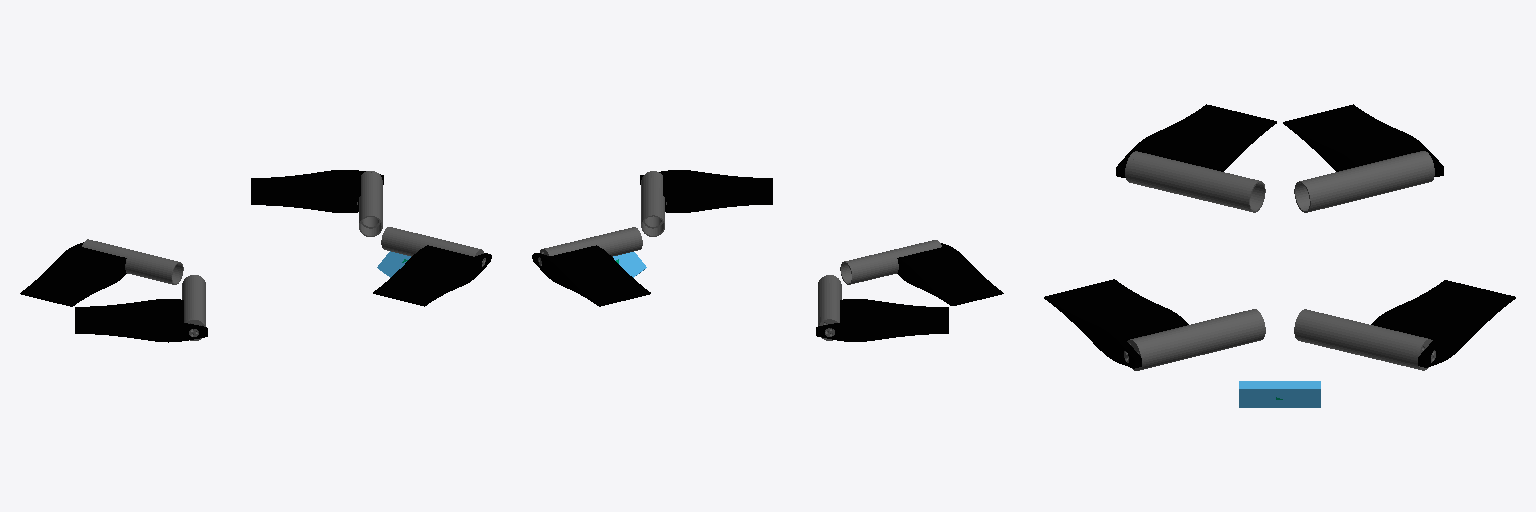
The robot description file, URDF, robot "U-CAT":
<?xml version="1.0"?>
<robot name="U-CAT">
	<link name="base_link">
		<visual>
			<geometry>
				<mesh filename="package://uwsim_arrows/data/meshes/ArrowsBody.dae"/>
        	</geometry>
		</visual>
		<collision>
			<geometry>
				<cylinder radius="0.35" length="0.30" />
			</geometry>
		</collision>
	</link>
	
	<!-- motor 1 -->
	<link name="frontrightflipper">
		<visual>
			<origin rpy="0 0 0" xyz="-0.092 0.06 0" />
			<geometry>
				<mesh filename="package://uwsim_arrows/data/meshes/ArrowsFin.dae"/>
        	</geometry>
		</visual>
	</link>
	
	<!-- motor 2 -->
	<link name="backrightflipper">
		<visual>
			<origin rpy="0 0 0" xyz="-0.092 0.06 0" />
			<geometry>
				<mesh filename="package://uwsim_arrows/data/meshes/ArrowsFin.dae"/>
        	</geometry>
		</visual>
	</link>
	
	<!-- motor 3 -->
	<link name="backleftflipper">
		<visual>
			<origin rpy="0 0 0" xyz="-0.092 0.06 0" />
			<geometry>
				<mesh filename="package://uwsim_arrows/data/meshes/ArrowsFin.dae"/>
        	</geometry>
		</visual>
	</link>
	
	<!-- motor 4 -->
	<link name="frontleftflipper">
		<visual>
			<origin rpy="0 0 0" xyz="-0.092 0.06 0" />
			<geometry>
				<mesh filename="package://uwsim_arrows/data/meshes/ArrowsFin.dae"/>
        	</geometry>
		</visual>
	</link>
	
	<!-- sonars -->
	<link name="sonar_b">
		<visual>
			<geometry>
				<mesh filename="package://uwsim_arrows/data/meshes/Sonar.dae"/>
        	</geometry>
		</visual>
	</link>
	<link name="sonar_ff">
		<visual>
			<geometry>
				<mesh filename="package://uwsim_arrows/data/meshes/Sonar.dae"/>
        	</geometry>
		</visual>
	</link>
	<link name="sonar_fl">
		<visual>
			<geometry>
				<mesh filename="package://uwsim_arrows/data/meshes/Sonar.dae"/>
        	</geometry>
		</visual>
	</link>
	<link name="sonar_fr">
		<visual>
			<geometry>
				<mesh filename="package://uwsim_arrows/data/meshes/Sonar.dae"/>
        	</geometry>
		</visual>
	</link>
	<link name="sonar_fu">
		<visual>
			<geometry>
				<mesh filename="package://uwsim_arrows/data/meshes/Sonar.dae"/>
        	</geometry>
		</visual>
	</link>
	<link name="sonar_fd">
		<visual>
			<geometry>
				<mesh filename="package://uwsim_arrows/data/meshes/Sonar.dae"/>
        	</geometry>
		</visual>
	</link>
	<link name="sonar_l">
		<visual>
			<geometry>
				<mesh filename="package://uwsim_arrows/data/meshes/Sonar.dae"/>
        	</geometry>
		</visual>
	</link>
	<link name="sonar_r">
		<visual>
			<geometry>
				<mesh filename="package://uwsim_arrows/data/meshes/Sonar.dae"/>
        	</geometry>
		</visual>
	</link>

	<!-- narrow sonars -->
	
	<link name="sonar_ff_0_0">
		<visual>
			<geometry>
				<box size="0.0 0.0 0.0"/>
        	</geometry>
		</visual>
	</link>
	
	<link name="sonar_ff_0_6">
		<visual>
			<geometry>
				<box size="0.0 0.0 0.0"/>
        	</geometry>
		</visual>
	</link>

	<link name="sonar_ff_6_6">
		<visual>
			<geometry>
				<box size="0.0 0.0 0.0"/>
        	</geometry>
		</visual>
	</link>
	
	<link name="sonar_ff_6_0">
		<visual>
			<geometry>
				<box size="0.0 0.0 0.0"/>
        	</geometry>
		</visual>
	</link>
	
	<link name="sonar_ff_0_3">
		<visual>
			<geometry>
				<box size="0.0 0.0 0.0"/>
        	</geometry>
		</visual>
	</link>
	<link name="sonar_ff_2_3">
		<visual>
			<geometry>
				<box size="0.0 0.0 0.0"/>
        	</geometry>
		</visual>
	</link>
	<link name="sonar_ff_4_3">
		<visual>
			<geometry>
				<box size="0.0 0.0 0.0"/>
        	</geometry>
		</visual>
	</link>
	<link name="sonar_ff_6_3">
		<visual>
			<geometry>
				<box size="0.0 0.0 0.0"/>
        	</geometry>
		</visual>
	</link>
	
	<link name="sonar_ff_3_0">
		<visual>
			<geometry>
				<box size="0.0 0.0 0.0"/>
        	</geometry>
		</visual>
	</link>
	<link name="sonar_ff_3_2">
		<visual>
			<geometry>
				<box size="0.0 0.0 0.0"/>
        	</geometry>
		</visual>
	</link>
	<link name="sonar_ff_3_4">
		<visual>
			<geometry>
				<box size="0.0 0.0 0.0"/>
        	</geometry>
		</visual>
	</link>
	<link name="sonar_ff_3_6">
		<visual>
			<geometry>
				<box size="0.0 0.0 0.0"/>
        	</geometry>
		</visual>
	</link>
		
	<!-- camera -->
	
	<link name="camera_link">
		<visual>
			<geometry>
				<box size="0.01 0.10 0.07"/>
        	</geometry>
		</visual>
	</link>
	
	<link name="camera_link_optical">
		<visual>
			<geometry>
				<box size="0.01 0.01 0.01"/>
        	</geometry>
		</visual>
	</link>
	
	<!-- joints, START COPYING FROM HERE -->
	
	<joint name="baselink_to_frontrightflipper" type="continuous">
		<parent link="base_link" />
		<child link="frontrightflipper" />
		<origin rpy="0 3.14159 -2.61799388" xyz="0.226 -0.096 0" />
		<axis xyz="0 1 0" />
	</joint>

	<joint name="baselink_to_backrightflipper" type="continuous">
		<parent link="base_link" />
		<child link="backrightflipper" />
		<origin rpy="0 3.14159 2.61799388" xyz="-0.226 -0.096 0" />
		<axis xyz="0 1 0" />
	</joint>
	
	<joint name="baselink_to_backleftflipper" type="continuous">
		<parent link="base_link" />
		<child link="backleftflipper" />
		<origin rpy="0 0 0.523598776" xyz="-0.226 0.096 0" />
		<axis xyz="0 1 0" />
	</joint>
	
	<joint name="baselink_to_frontleftflipper" type="continuous">
		<parent link="base_link" />
		<child link="frontleftflipper" />
		<origin rpy="0 0 -0.523598776" xyz="0.226 0.096 0" />
		<axis xyz="0 1 0" />
	</joint>
	
	<joint name="baselink_to_camera_link" type="fixed">
		<parent link="base_link" />
		<child link="camera_link" />
		<origin rpy="0 0.8 0" xyz="0.24 0 -0.07" />
	</joint>

	<joint name="camera_rgb_optical_joint" type="fixed">
		<origin xyz="0 0 0" rpy="-1.57 0 -1.57" />
		<parent link="camera_link" />
		<child link="camera_link_optical" />
	</joint>
	
	<joint name="baselink_to_sonar_b" type="fixed">
		<parent link="base_link" />
		<child link="sonar_b" />
		<origin rpy="0 0 3.14159" xyz="-0.28 0 0" />
	</joint>
	
	<joint name="baselink_to_sonar_ff" type="fixed">
		<parent link="base_link" />
		<child link="sonar_ff" />
		<origin rpy="0 0 0" xyz="0.28 0 0" />
	</joint>
	
	<joint name="baselink_to_sonar_fl" type="fixed">
		<parent link="base_link" />
		<child link="sonar_fl" />
		<origin rpy="0 0 0.559" xyz="0.263 0.057 0" />
	</joint>
	
	<joint name="baselink_to_sonar_fr" type="fixed">
		<parent link="base_link" />
		<child link="sonar_fr" />
		<origin rpy="0 0 -0.559" xyz="0.263 -0.057 0" />
	</joint>
	
	<joint name="baselink_to_sonar_fu" type="fixed">
		<parent link="base_link" />
		<child link="sonar_fu" />
		<origin rpy="0 -1.57 0" xyz="0.20 0 0.10" />
	</joint>
	
	<joint name="baselink_to_sonar_fd" type="fixed">
		<parent link="base_link" />
		<child link="sonar_fd" />
		<origin rpy="0 1.57 0" xyz="-0.20 0 -0.10" />
	</joint>
	
	<joint name="baselink_to_sonar_l" type="fixed">
		<parent link="base_link" />
		<child link="sonar_l" />
		<origin rpy="0 0 1.57" xyz="0 0.165 0" />
	</joint>
	
	<joint name="baselink_to_sonar_r" type="fixed">
		<parent link="base_link" />
		<child link="sonar_r" />
		<origin rpy="0 0 -1.57" xyz="0 -0.165 0" />
	</joint>


<!-- horizontal array -->
	<joint name="baselink_to_sonar_ff_0_3" type="fixed">
		<parent link="base_link" />
		<child link="sonar_ff_0_3" />
		<origin rpy="0 0 0.785398163" xyz="0.28 0 0" />
	</joint>	
	<joint name="baselink_to_sonar_ff_2_3" type="fixed">
		<parent link="base_link" />
		<child link="sonar_ff_2_3" />
		<origin rpy="0 0 0.261799388" xyz="0.28 0 0" />
	</joint>
	<joint name="baselink_to_sonar_ff_4_3" type="fixed">
		<parent link="base_link" />
		<child link="sonar_ff_4_3" />
		<origin rpy="0 0 -0.261799388" xyz="0.28 0 0" />
	</joint>
	<joint name="baselink_to_sonar_ff_6_3" type="fixed">
		<parent link="base_link" />
		<child link="sonar_ff_6_3" />
		<origin rpy="0 0 -0.785398163" xyz="0.28 0 0" />
	</joint>
	
	<joint name="baselink_to_sonar_ff_3_2" type="fixed">
		<parent link="base_link" />
		<child link="sonar_ff_3_2" />
		<origin rpy="0 -0.261799388 0" xyz="0.28 0 0" />
	</joint>
	<joint name="baselink_to_sonar_ff_3_0" type="fixed">
		<parent link="base_link" />
		<child link="sonar_ff_3_0" />
		<origin rpy="0 -0.785398163 0" xyz="0.28 0 0" />
	</joint>
	
	<joint name="baselink_to_sonar_ff_3_4" type="fixed">
		<parent link="base_link" />
		<child link="sonar_ff_3_4" />
		<origin rpy="0 0.261799388 0" xyz="0.28 0 0" />
	</joint>
	<joint name="baselink_to_sonar_ff_3_6" type="fixed">
		<parent link="base_link" />
		<child link="sonar_ff_3_6" />
		<origin rpy="0 0.785398163 0" xyz="0.28 0 0" />
	</joint>
	
	<joint name="baselink_to_sonar_ff_0_6" type="fixed">
		<parent link="base_link" />
		<child link="sonar_ff_0_6" />
		<origin rpy="0 0.65 0.65" xyz="0.28 0 0" />
	</joint>
	<joint name="baselink_to_sonar_ff_0_0" type="fixed">
		<parent link="base_link" />
		<child link="sonar_ff_0_0" />
		<origin rpy="0 -0.65 0.65" xyz="0.28 0 0" />
	</joint>
	<joint name="baselink_to_sonar_ff_6_6" type="fixed">
		<parent link="base_link" />
		<child link="sonar_ff_6_6" />
		<origin rpy="0 0.65 -0.65" xyz="0.28 0 0" />
	</joint>
	<joint name="baselink_to_sonar_ff_6_0" type="fixed">
		<parent link="base_link" />
		<child link="sonar_ff_6_0" />
		<origin rpy="0 -0.65 -00.65" xyz="0.28 0 0" />
	</joint>
	
</robot>

--- What the picture shows (computed from the rendered views, not written in the file) ---
3 views of the same robot in one strip: view 1: azimuth 30°, elevation 25°; view 2: azimuth 150°, elevation 25°; view 3: azimuth 270°, elevation 25° (orthographic).
Model U-CAT with 27 links and 26 joints (4 continuous, 22 fixed), rooted at base_link, posed every joint at zero.
Links seen in each view (by area): view 1: backleftflipper, frontrightflipper, frontleftflipper, backrightflipper; view 2: backrightflipper, frontleftflipper, frontrightflipper, backleftflipper; view 3: frontrightflipper, frontleftflipper, backrightflipper, backleftflipper, camera_link.
Link boxes in pixels (bbox=[...]): backleftflipper: bbox=[20, 239, 183, 306]; frontrightflipper: bbox=[373, 227, 491, 306]; frontleftflipper: bbox=[251, 170, 383, 236]; backrightflipper: bbox=[75, 275, 207, 342]; backrightflipper: bbox=[840, 240, 1003, 305]; frontleftflipper: bbox=[532, 227, 650, 306]; frontrightflipper: bbox=[640, 170, 772, 236]; backleftflipper: bbox=[816, 275, 948, 341]; frontrightflipper: bbox=[1044, 279, 1265, 370]; frontleftflipper: bbox=[1294, 280, 1515, 370]; backrightflipper: bbox=[1116, 104, 1276, 212]; backleftflipper: bbox=[1283, 104, 1443, 212]; camera_link: bbox=[1239, 381, 1320, 407].
Bounding box of the posed robot: 0.7544 × 0.581 × 0.1183 m (x, y, z).
Meshes: 3 distinct files referenced, 4 mesh visuals loaded (1 Collada DAE); not drawn: 9 (reference not matched to a file when rendering).